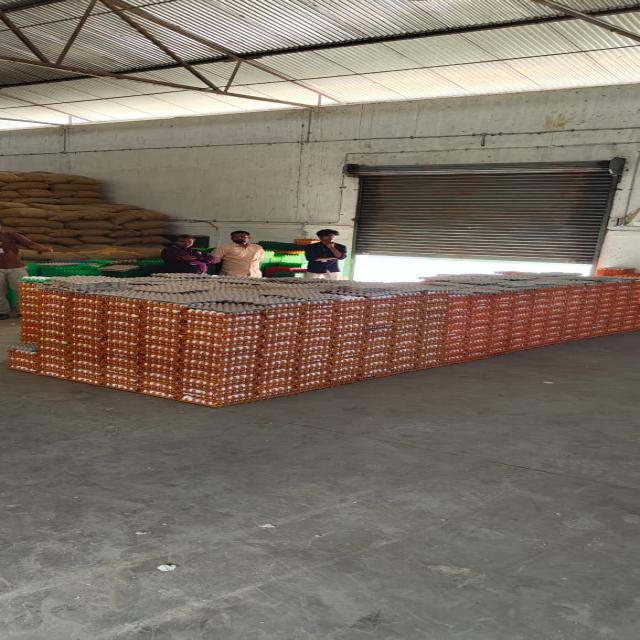egg_tray: (34, 276, 638, 406), (184, 303, 333, 401), (181, 304, 301, 406), (255, 300, 366, 397), (254, 300, 358, 397), (294, 296, 396, 390), (180, 308, 262, 406), (254, 300, 334, 398), (529, 282, 637, 346), (254, 303, 326, 398), (367, 294, 447, 374), (288, 301, 356, 390), (303, 299, 369, 388), (137, 302, 184, 398), (100, 298, 146, 390), (67, 296, 108, 384), (442, 293, 493, 363), (38, 291, 74, 378), (359, 296, 397, 378), (527, 287, 579, 346), (491, 290, 532, 351), (598, 280, 637, 332), (20, 282, 39, 342), (9, 342, 38, 372), (596, 268, 639, 277), (135, 291, 174, 297), (10, 358, 18, 368), (189, 310, 198, 317), (183, 278, 191, 282), (366, 358, 370, 364), (13, 358, 17, 364), (362, 372, 365, 376), (363, 367, 365, 371), (327, 327, 330, 329), (327, 329, 329, 332), (502, 348, 505, 350), (28, 356, 31, 357), (360, 324, 361, 326), (378, 358, 378, 360), (22, 369, 24, 369), (191, 287, 192, 287), (151, 279, 152, 279), (68, 279, 70, 279)
